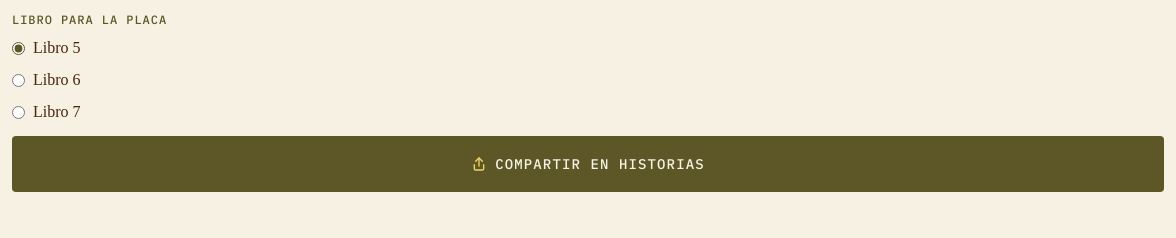
Test case: GiftStoryShare › si la generación falla muestra el aviso, habilita el botón y le devuelve el foco
Click the button "Compartir en historias" at {"x": 588, "y": 164}, box x1=12 y1=136 x2=1164 y2=192
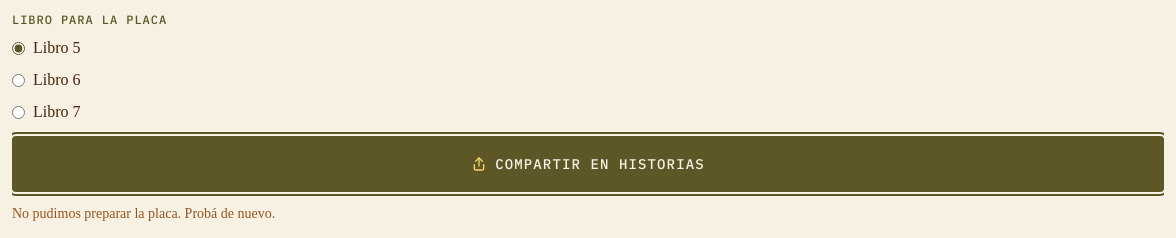
Check: the message reads "No pudimos preparar la placa. Probá de nuevo.", box x1=12 y1=206 x2=275 y2=221
Click the button "Compartir en historias" at {"x": 588, "y": 164}, box x1=12 y1=136 x2=1164 y2=192
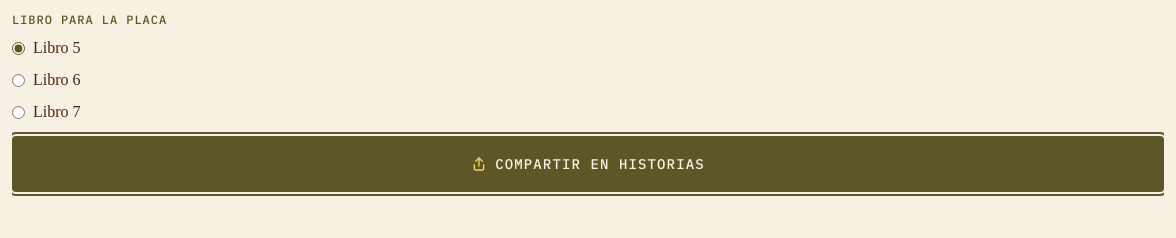
Check: the message "No pudimos preparar la placa. Probá de nuevo." is gone
